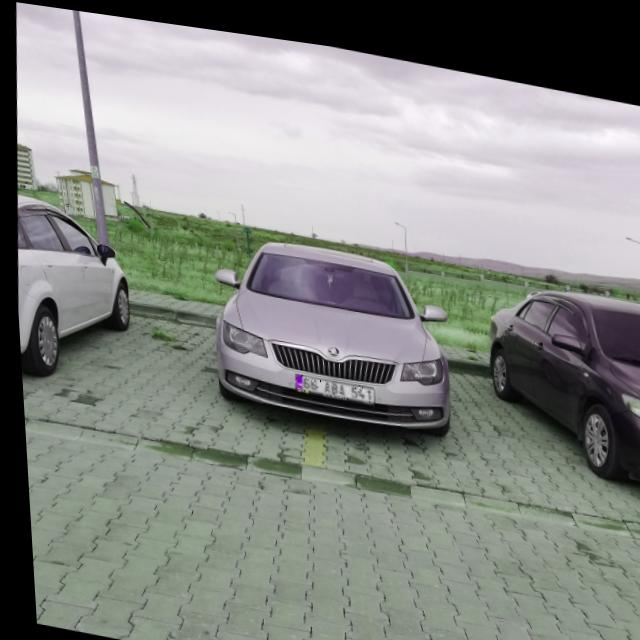license_plate: (290, 365, 371, 394)
